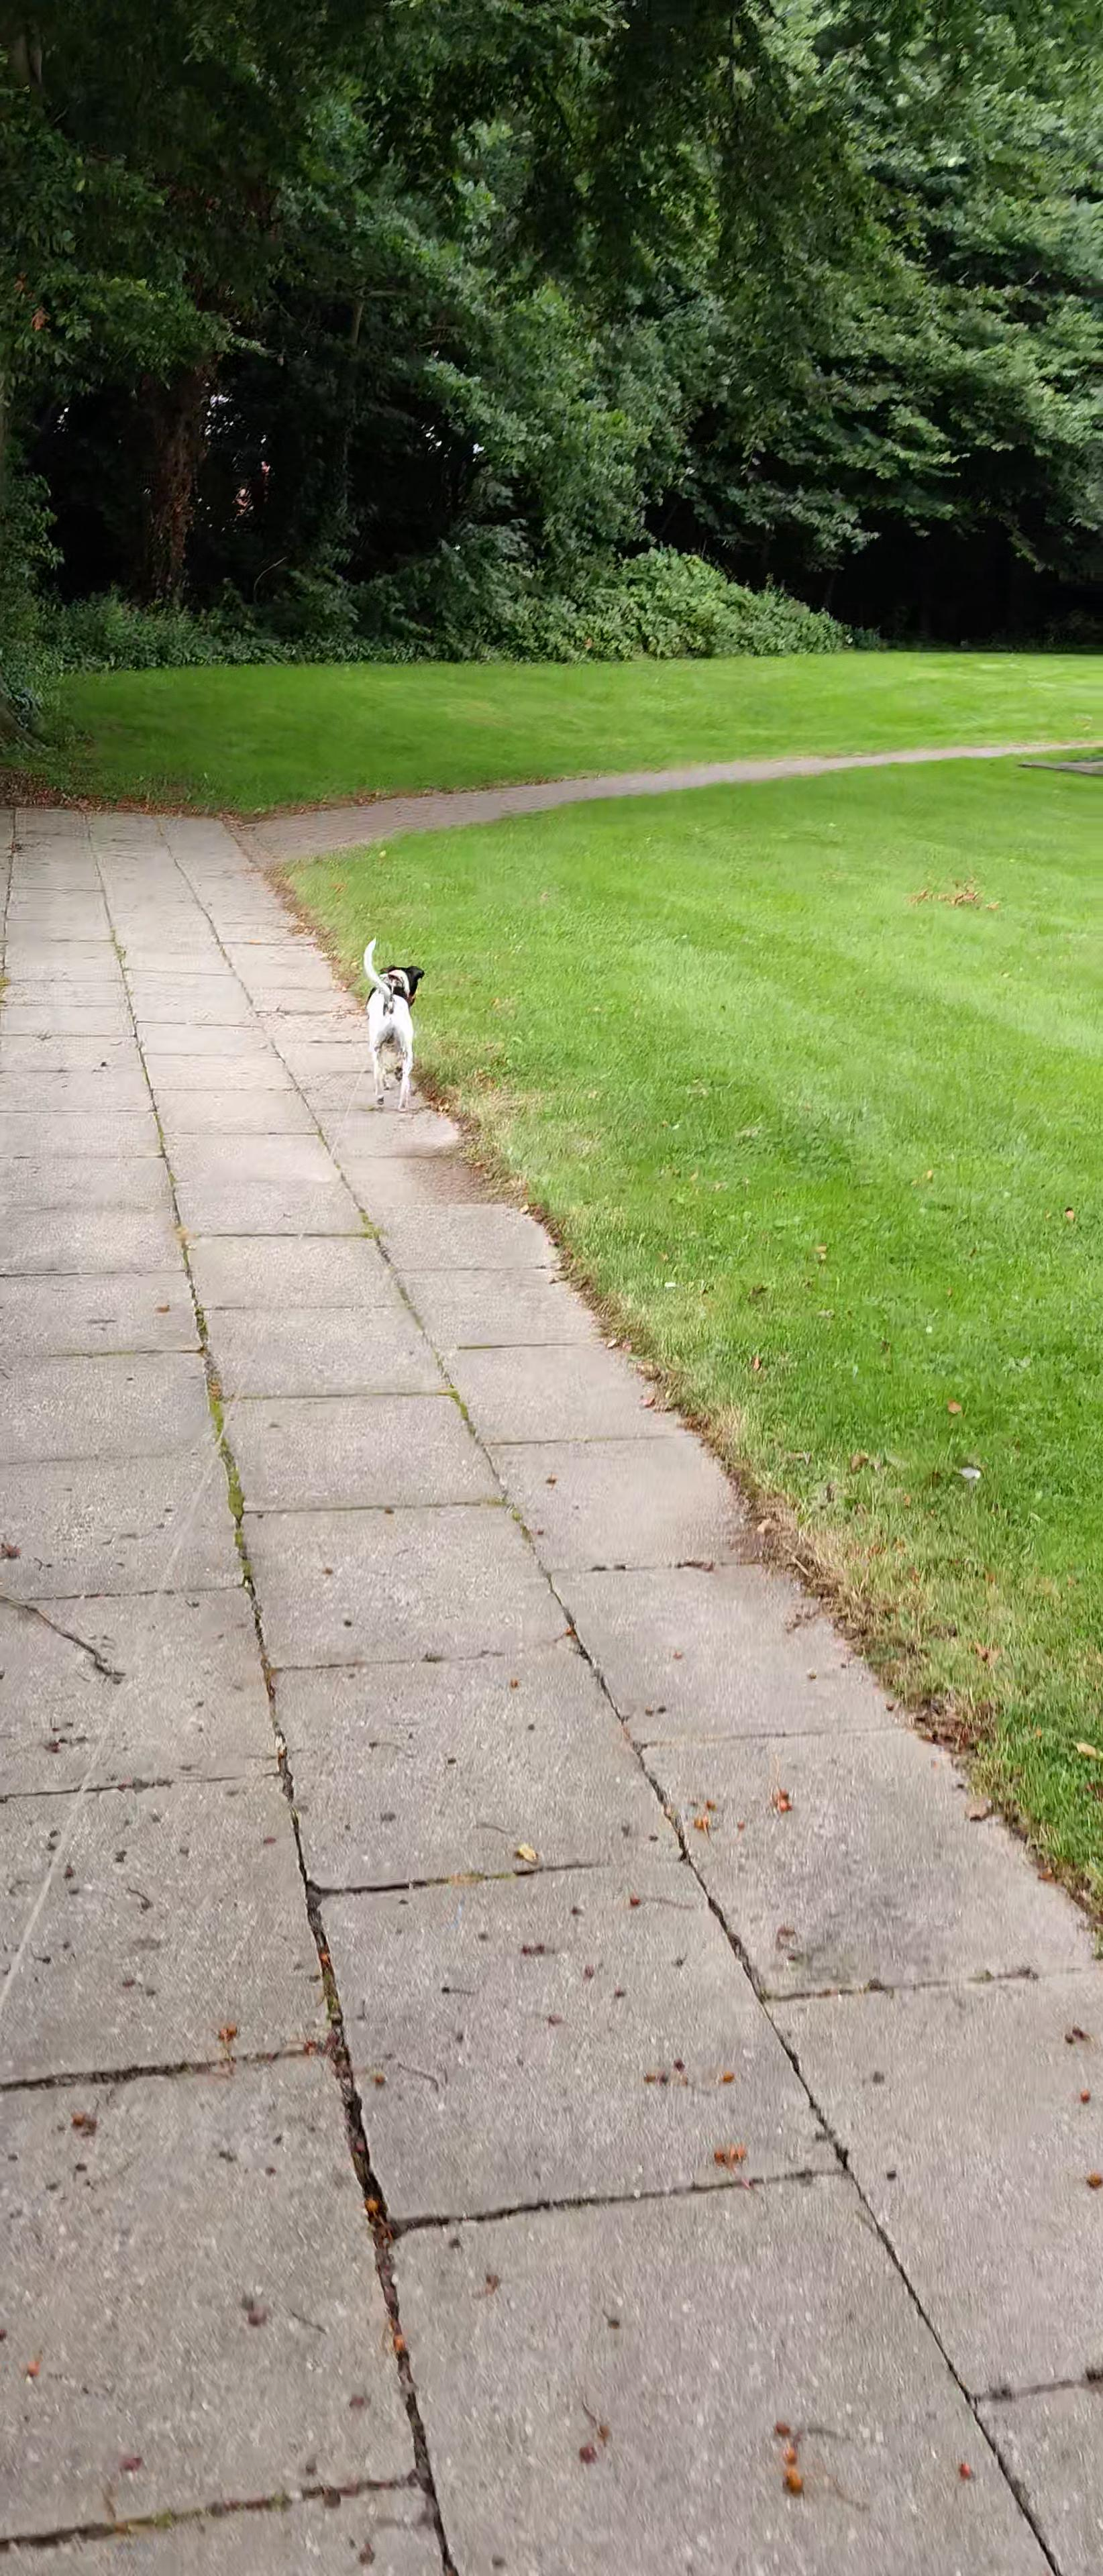Dog: (357, 935, 427, 1114)
